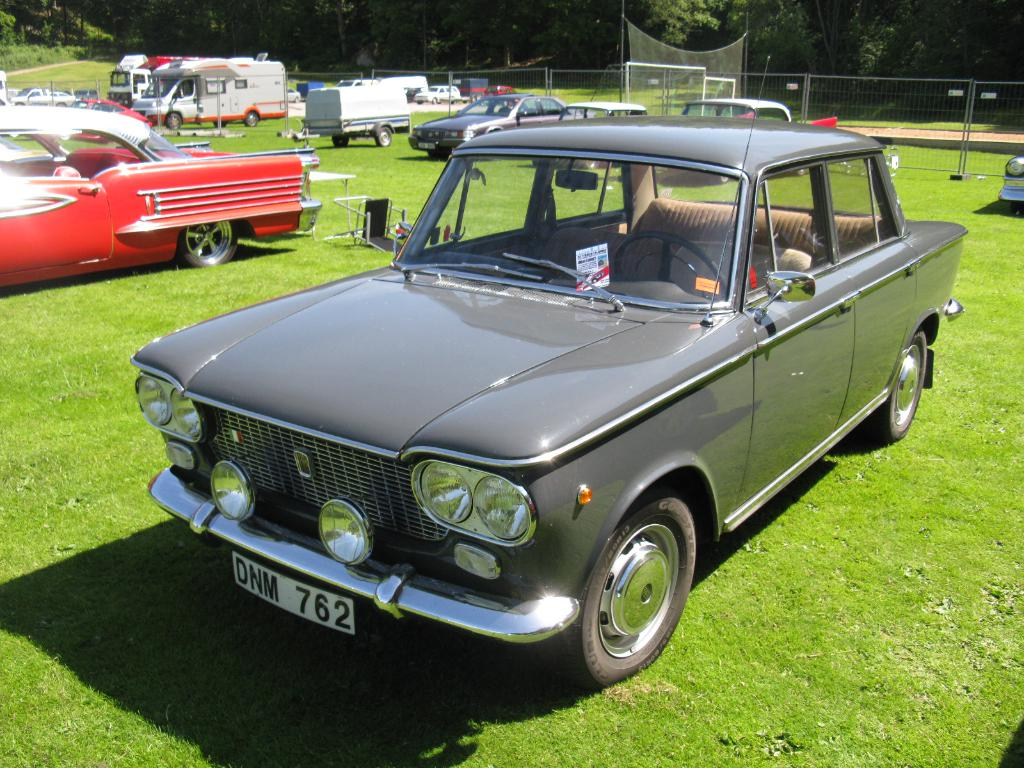Car: (82, 139, 970, 688), (0, 106, 323, 267), (407, 88, 570, 157), (684, 88, 803, 176), (567, 102, 654, 119), (997, 148, 1023, 204), (18, 90, 71, 101)
